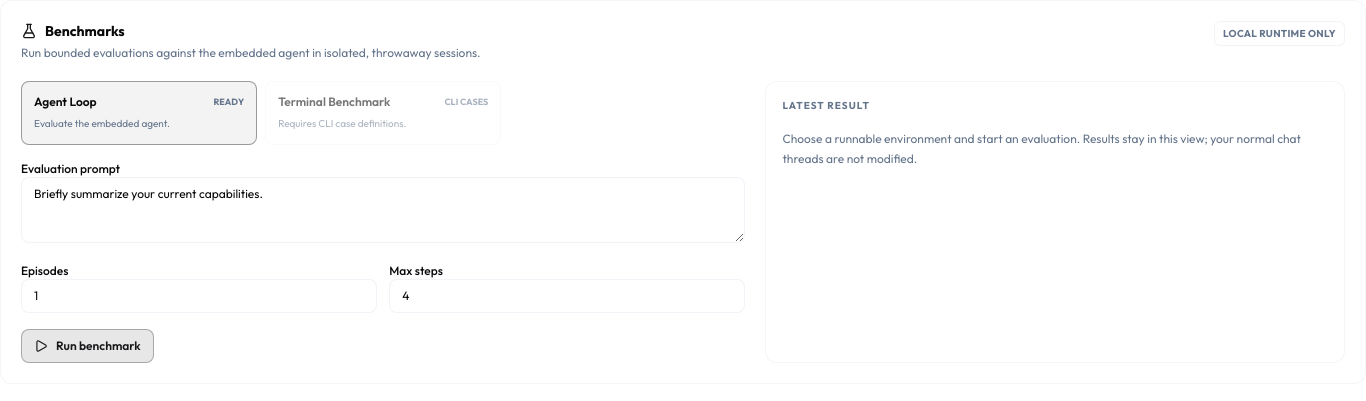
Scenario: BenchmarkPanel › runs the selected environment and renders its scored summary
The image size is (1366, 401).
expect the radio button labelled "Agent Loop Ready Evaluate the embedded agent." is checked: met, box [21,81,257,145]
expect the radio button labelled "Terminal Benchmark CLI cases Requires CLI case definitions." is disabled: met, box [265,81,501,145]
Replace the text in the text box labelled "Evaluation prompt" with "Inspect the active tool surface." at (383, 210), box [21,177,745,243]
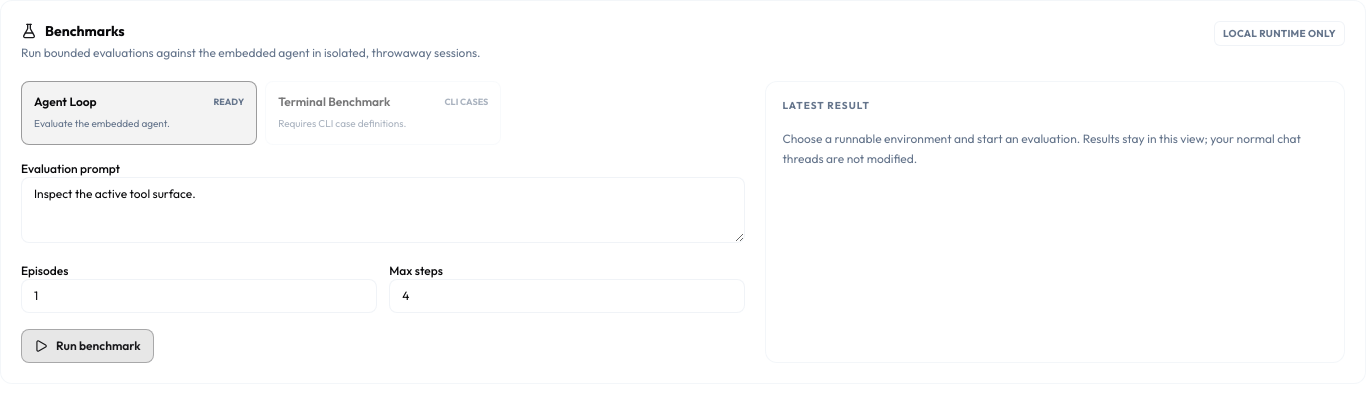
Replace the text in the number field labelled "Episodes" with "2" at (199, 296), box [21,279,377,313]
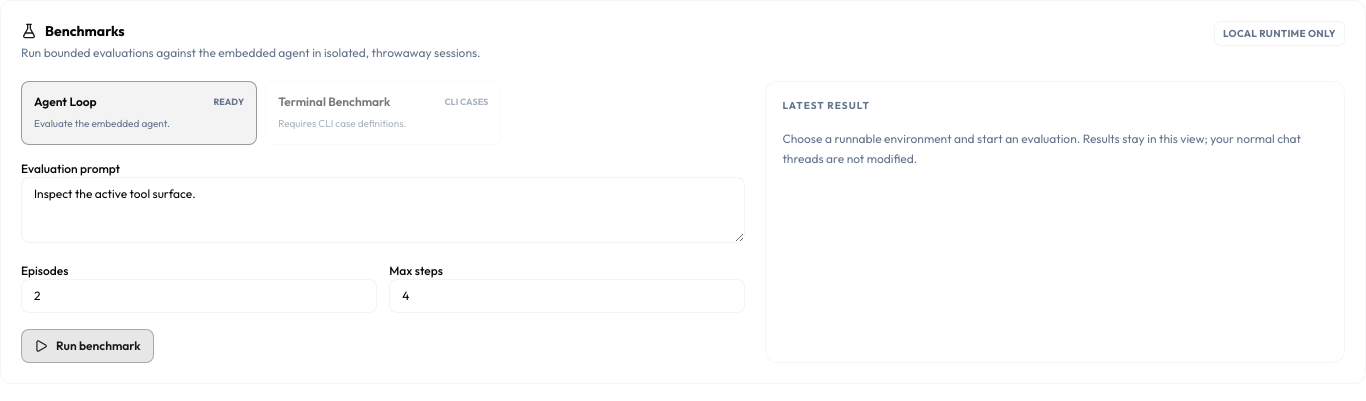
Replace the text in the number field labelled "Max steps" with "6" at (567, 296), box [389,279,745,313]
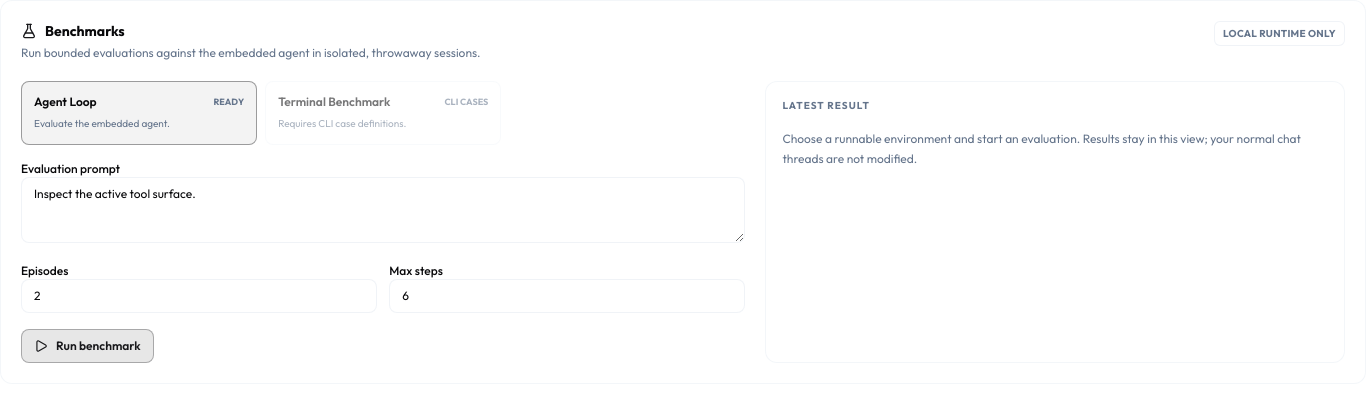
Click the button "Run benchmark" at (87, 346), box [21,329,154,363]
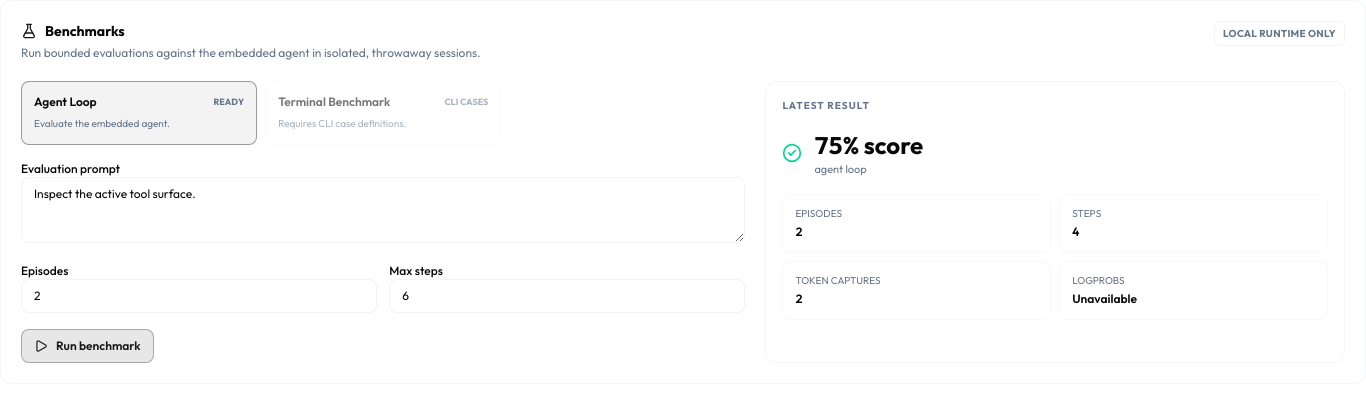
expect the text "75% score" is shown: met, box [814,129,923,161]
expect the text "4" is shown: met, box [1072,224,1079,239]
expect the text "Unavailable" is shown: met, box [1072,291,1137,306]
